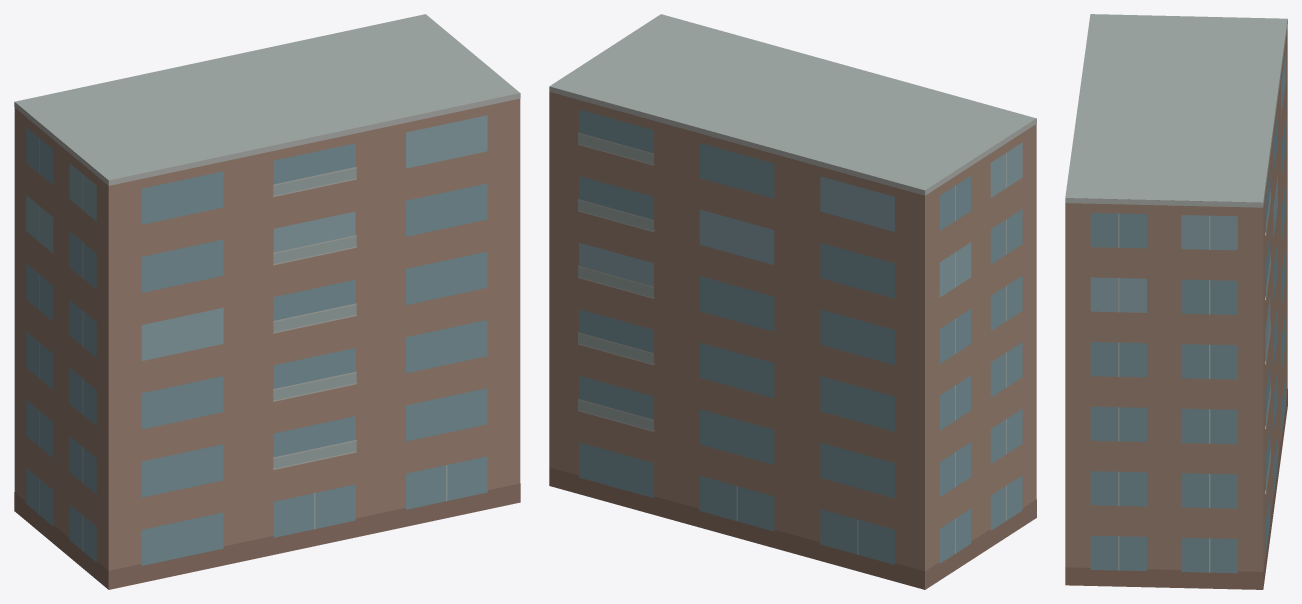
File: survey-upis-32552466.glb
3 renders of one model, left to right at view 1: azimuth 30°, elevation 25°; view 2: azimuth 150°, elevation 25°; view 3: azimuth 270°, elevation 25°, orthographic. The views are drawn at different scales.
Parts seen in each view (by area): view 1: survey-upis-32552466.tmp; view 2: survey-upis-32552466.tmp; view 3: survey-upis-32552466.tmp.
Part boxes in pixels (bbox=[...]): survey-upis-32552466.tmp: bbox=[14, 14, 520, 589]; survey-upis-32552466.tmp: bbox=[549, 14, 1036, 589]; survey-upis-32552466.tmp: bbox=[1065, 14, 1287, 589].
Size of the model in its own units: 19.11 by 18.3 by 9.54.
